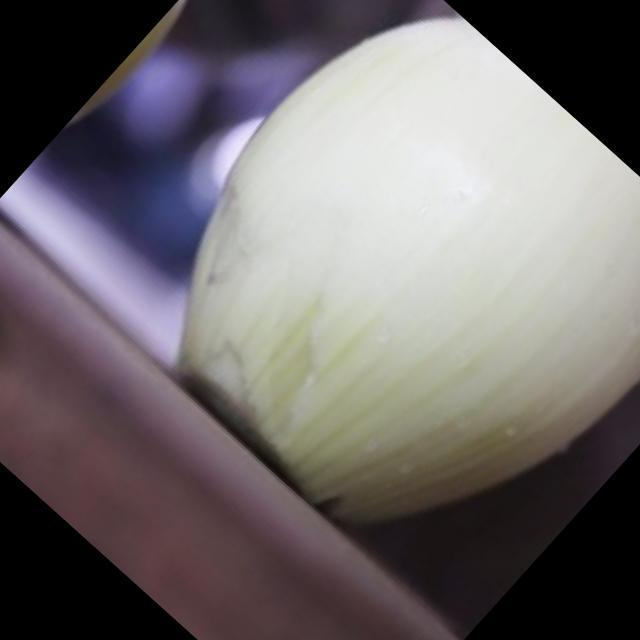Onion: (177, 6, 640, 523)
